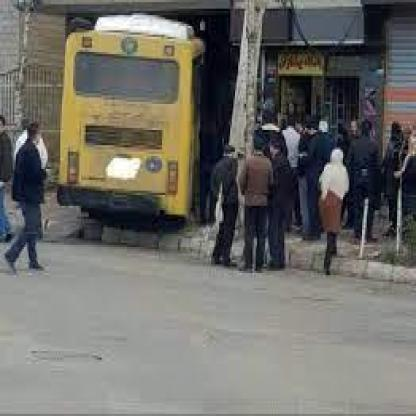Bus: (59, 15, 198, 241)
